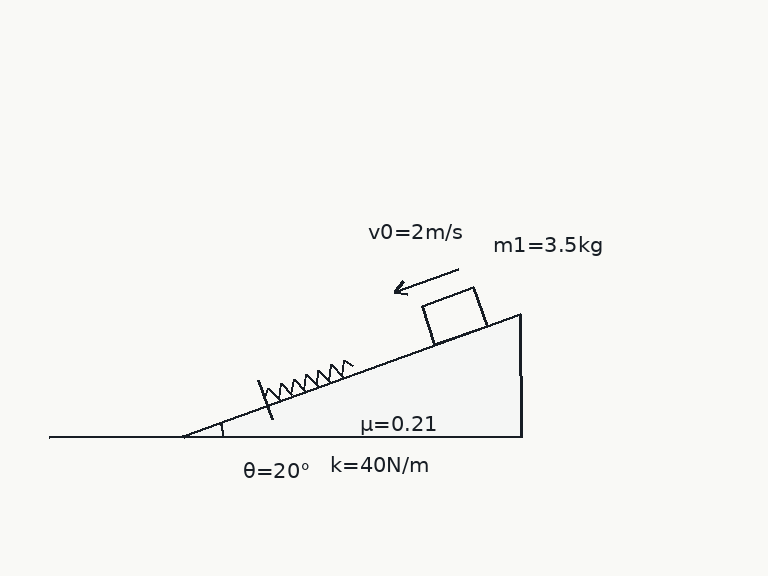block: (419, 285, 489, 346)
ramp: (181, 311, 522, 438)
spring: (262, 359, 354, 401)
